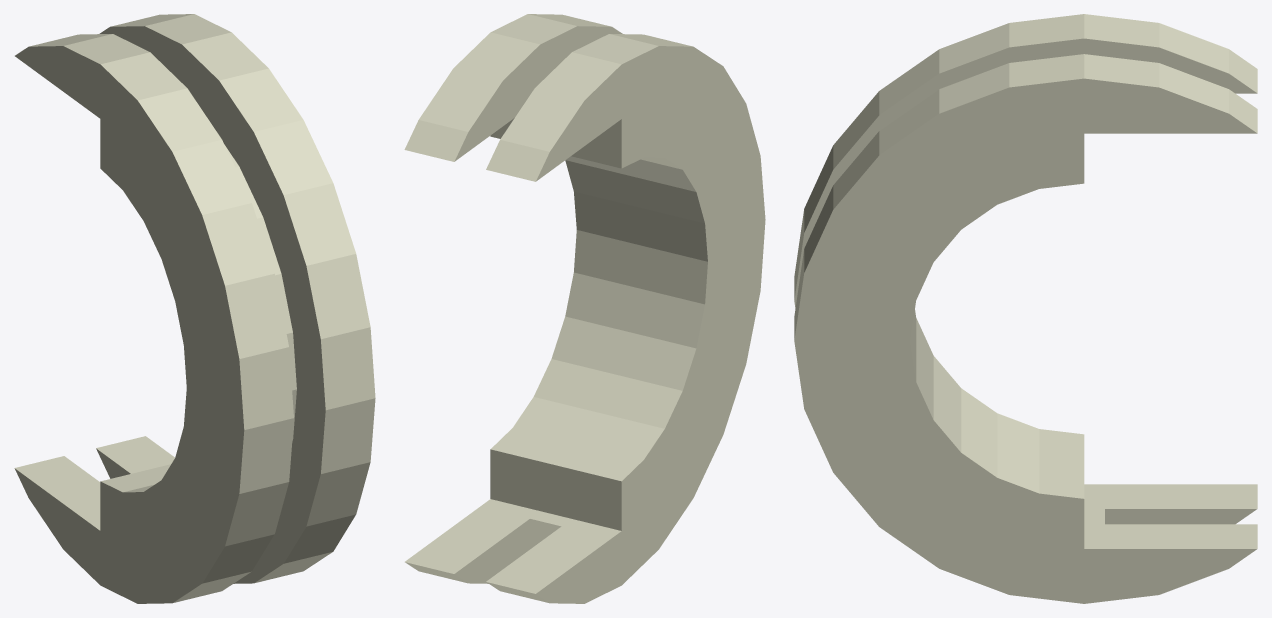
File: section_096.obj
3 renders of one model, left to right at view 1: azimuth 30°, elevation 25°; view 2: azimuth 150°, elevation 25°; view 3: azimuth 270°, elevation 25°, orthographic.
Size of the model in its own units: 2.64 by 10 by 7.99.
